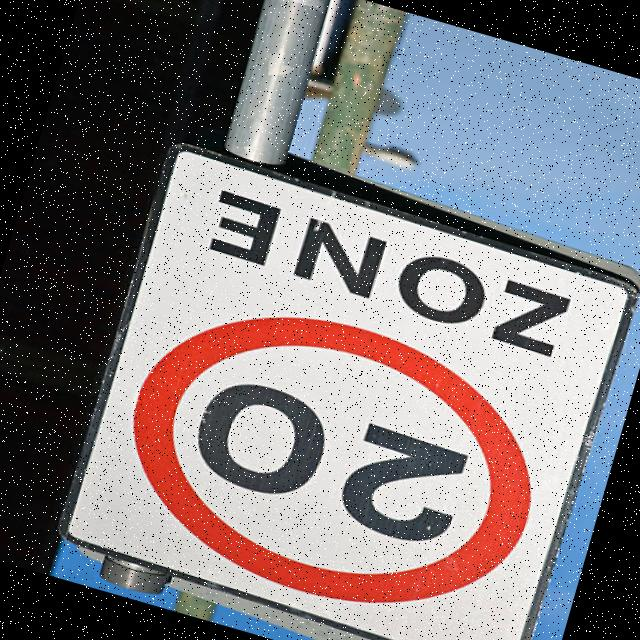speed_limit_20: (92, 271, 573, 640)
